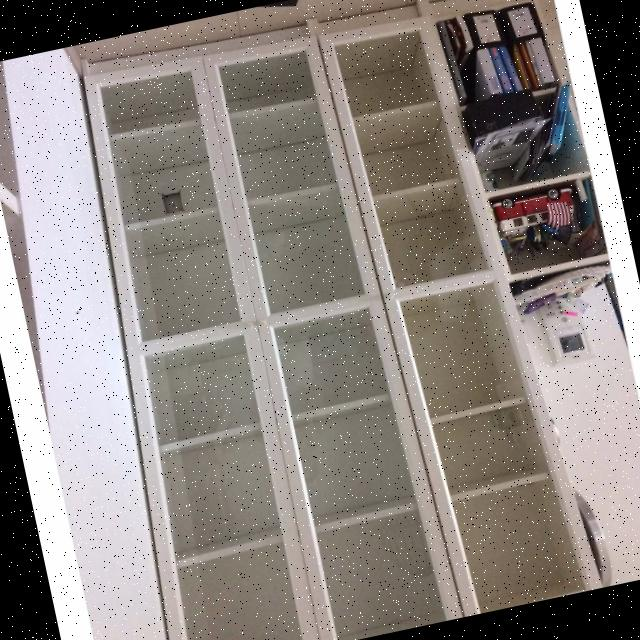Shelf: (38, 0, 603, 640)
